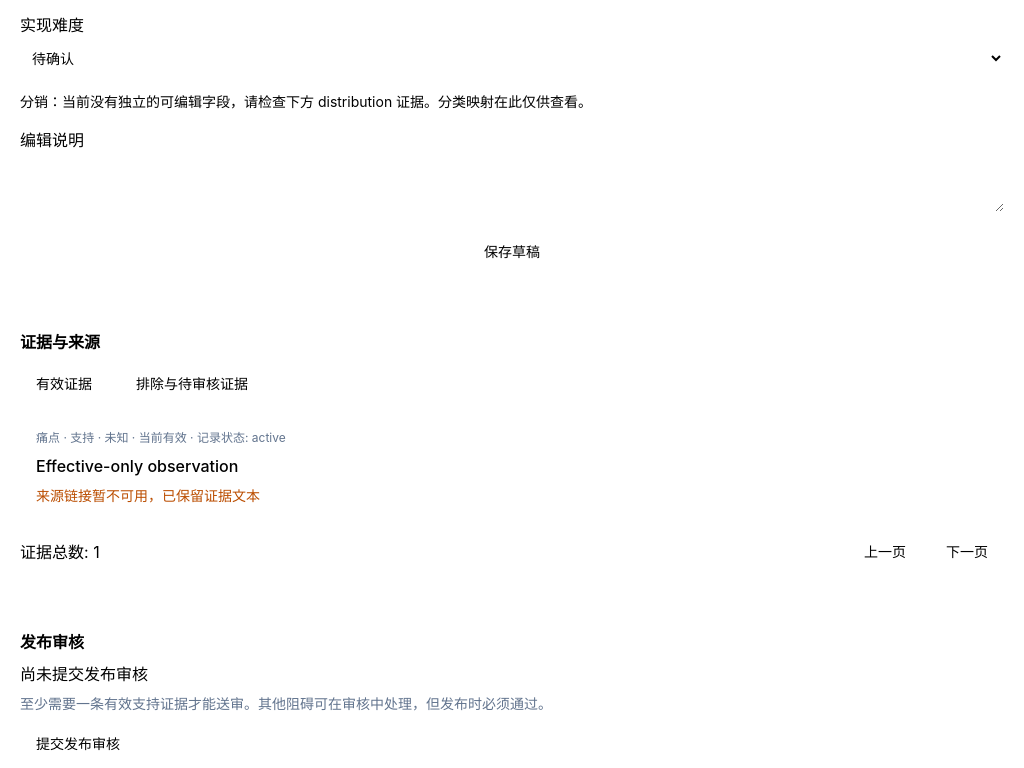
it: never displays stale effective evidence under an excluded tab after a failed request
(page scrolled)
Expected: the heading "Effective-only observation" is shown, [36,456,238,476]
Click the button "排除与待审核证据" at (192, 384), box [120,366,264,402]
(page scrolled)
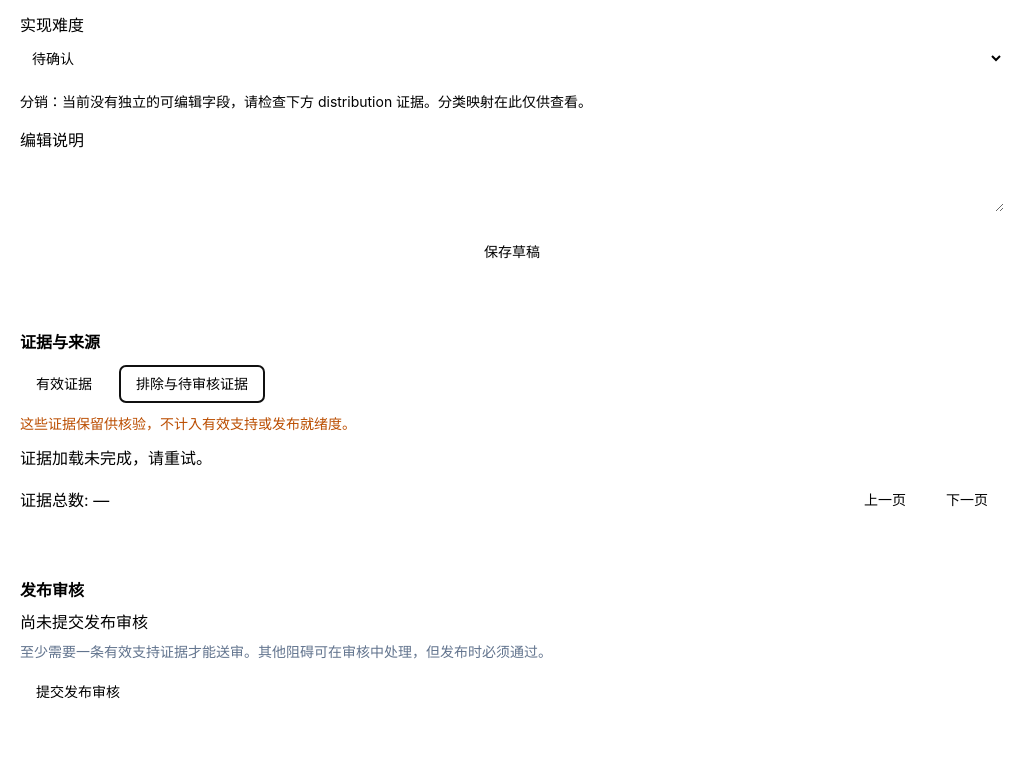
Expected: the heading "Effective-only observation" is gone
Expected: the text "证据加载未完成，请重试。" is shown, [20,448,212,468]
